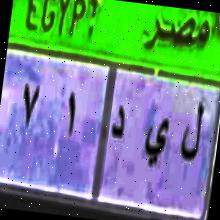1: (60, 86, 82, 140)
7: (17, 76, 44, 135)
daal: (106, 95, 128, 149)
laam: (176, 92, 208, 172)
yaa: (139, 112, 171, 169)
